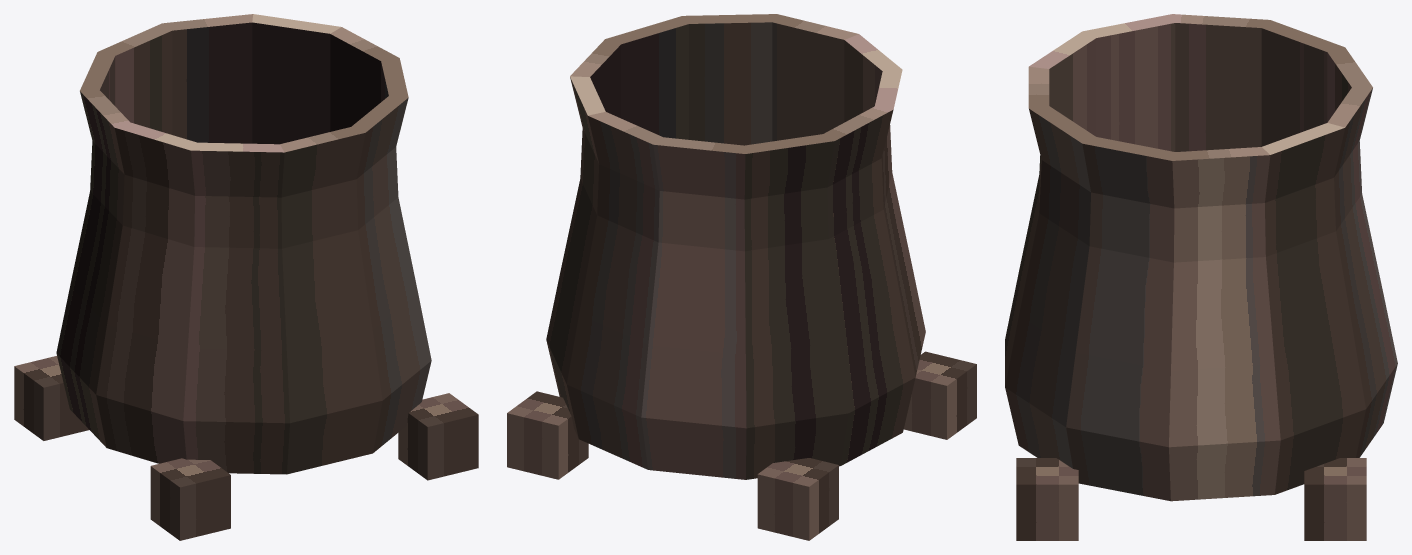
File: cauldron_995x00.gltf
3 views of the same model, side by side, from view 1: azimuth 30°, elevation 25°; view 2: azimuth 150°, elevation 25°; view 3: azimuth 270°, elevation 25° (orthographic). The views are drawn at different scales.
Parts seen in each view (by area): view 1: cauldron_995x00; view 2: cauldron_995x00; view 3: cauldron_995x00.
Boxes of the visible parts, left/top/right/bottom form: cauldron_995x00: left=14, top=14, right=478, bottom=540; cauldron_995x00: left=507, top=14, right=976, bottom=540; cauldron_995x00: left=1005, top=14, right=1397, bottom=540.
Bounding box in the file's own units: 1.59 × 1.67 × 1.58.
1 material, 1 textured.
